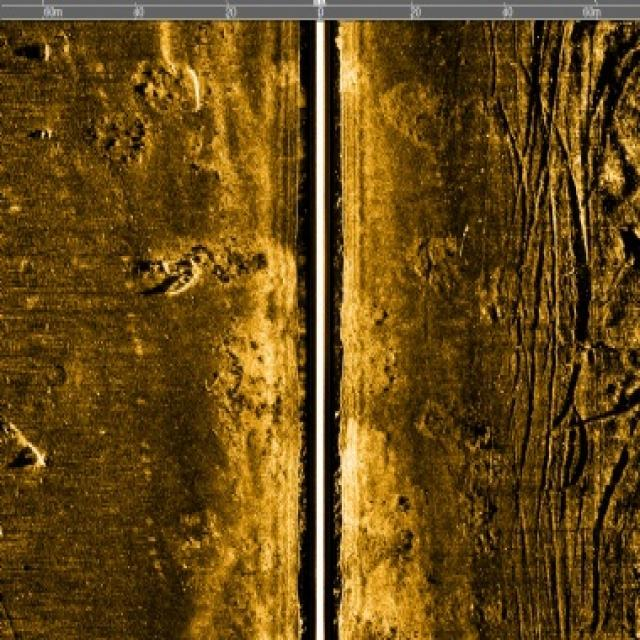shipwreck: (160, 258, 197, 301)
